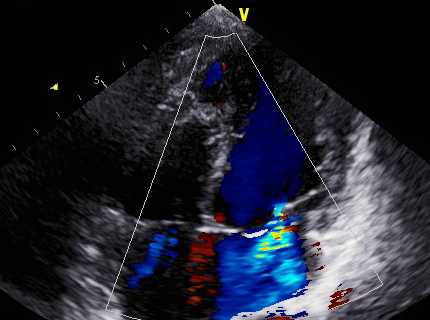MR: (217, 196, 305, 263)
